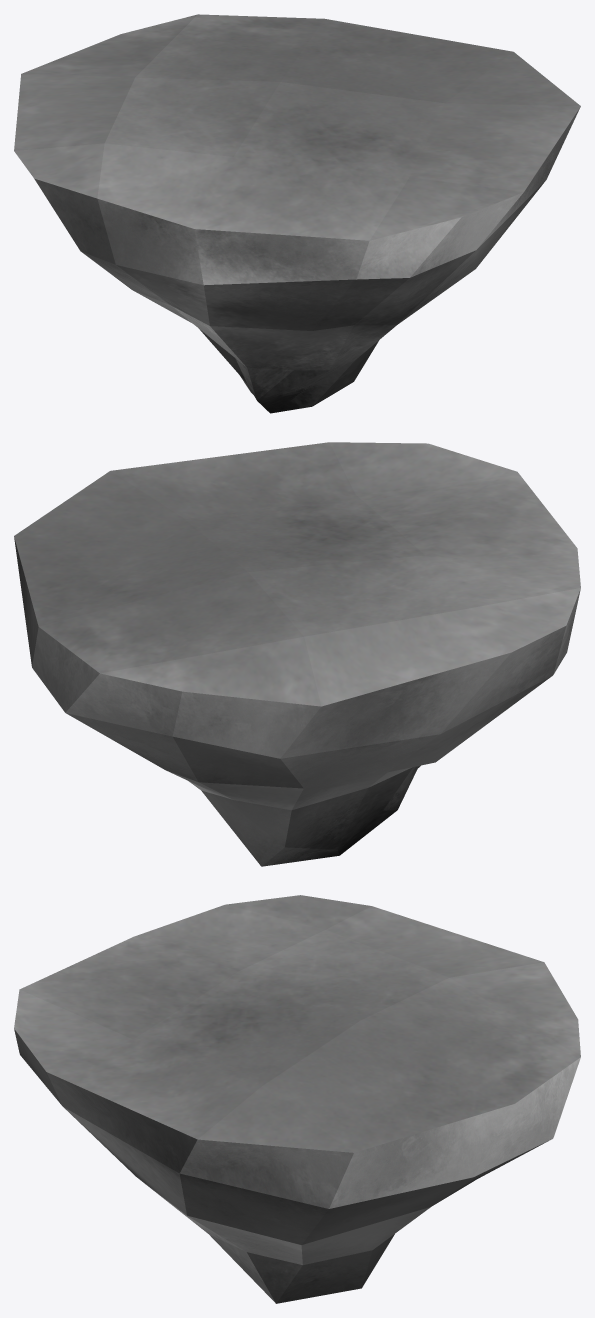
Rendered from platform start.fbx.
3 renders of one model, top to bottom at view 1: azimuth 30°, elevation 25°; view 2: azimuth 150°, elevation 25°; view 3: azimuth 270°, elevation 25°, orthographic. The views are drawn at different scales.
Visible parts, largest first — view 1: pCube77; view 2: pCube77; view 3: pCube77.
Boxes of the visible parts, left/top/right/bottom form: pCube77: left=14, top=14, right=580, bottom=413; pCube77: left=14, top=442, right=580, bottom=866; pCube77: left=14, top=895, right=580, bottom=1303.
Bounding box in the file's own units: 35.51 × 19.47 × 35.27.
Materials: 1 (1 with a texture image).
